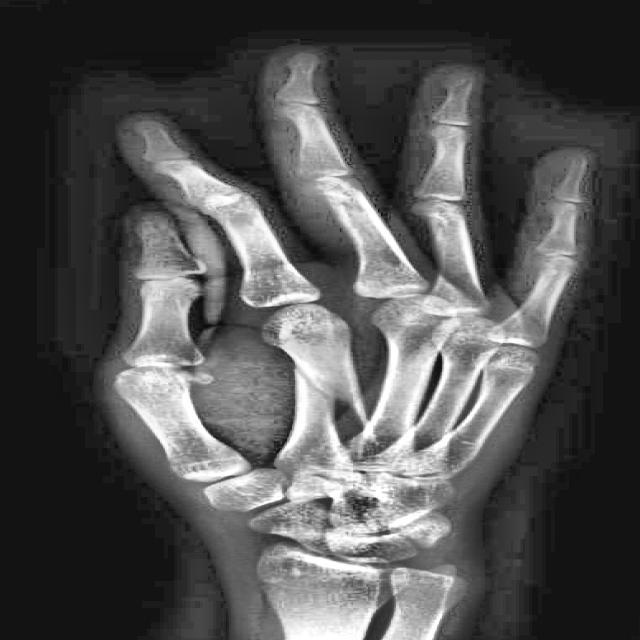fracture: (286, 352, 338, 408)
